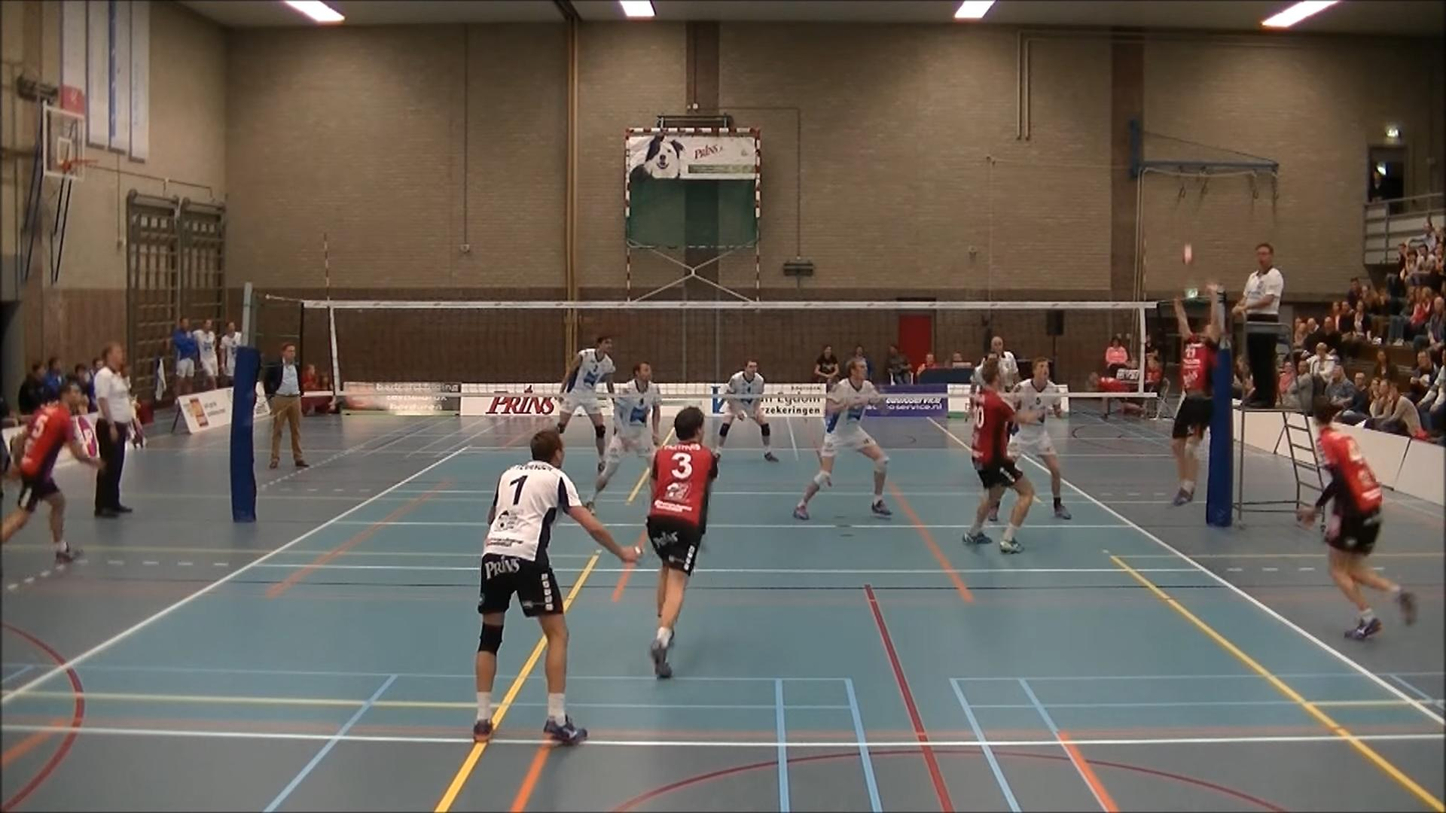alzata: (1170, 278, 1227, 505)
